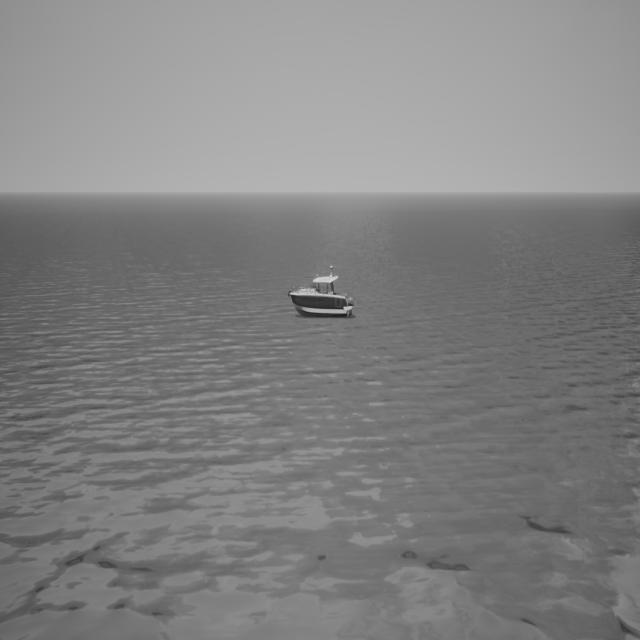ship: (288, 264, 355, 316)
